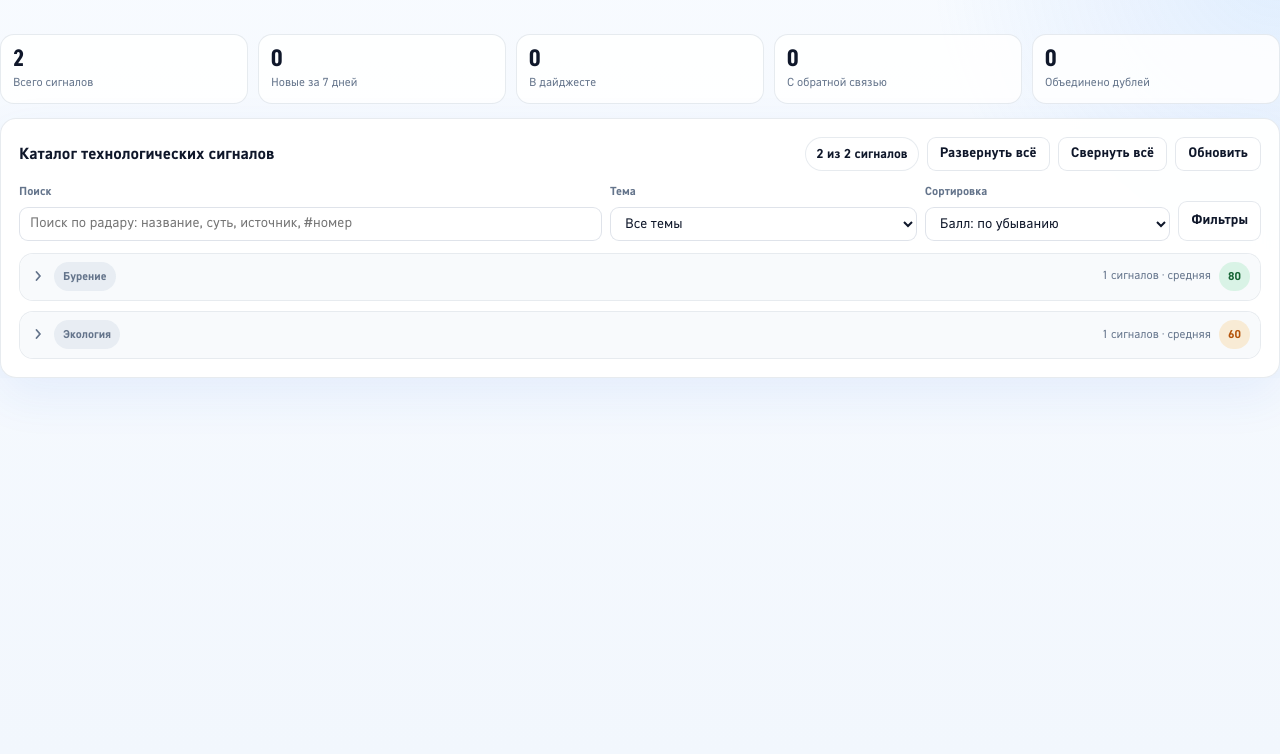
it: SignalRadarPage › экран для коллег заказчика › обычный пользователь оставляет ОС, в оценках есть «Не тот блок»
Click the button with aria-label "Раскрыть группу Бурение". click: (85, 276)
box: [20,254,1260,300]
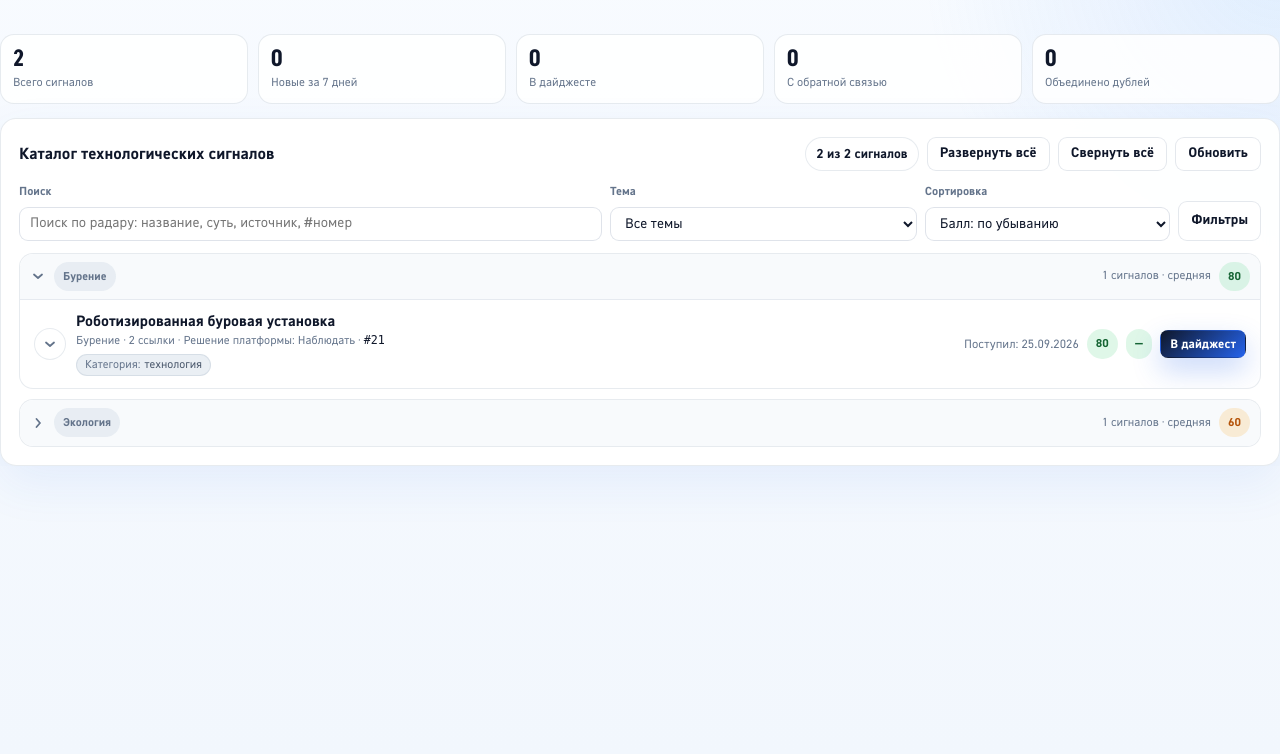
Click the button named "Раскрыть сигнал". click: (50, 344)
box: [34,328,66,360]
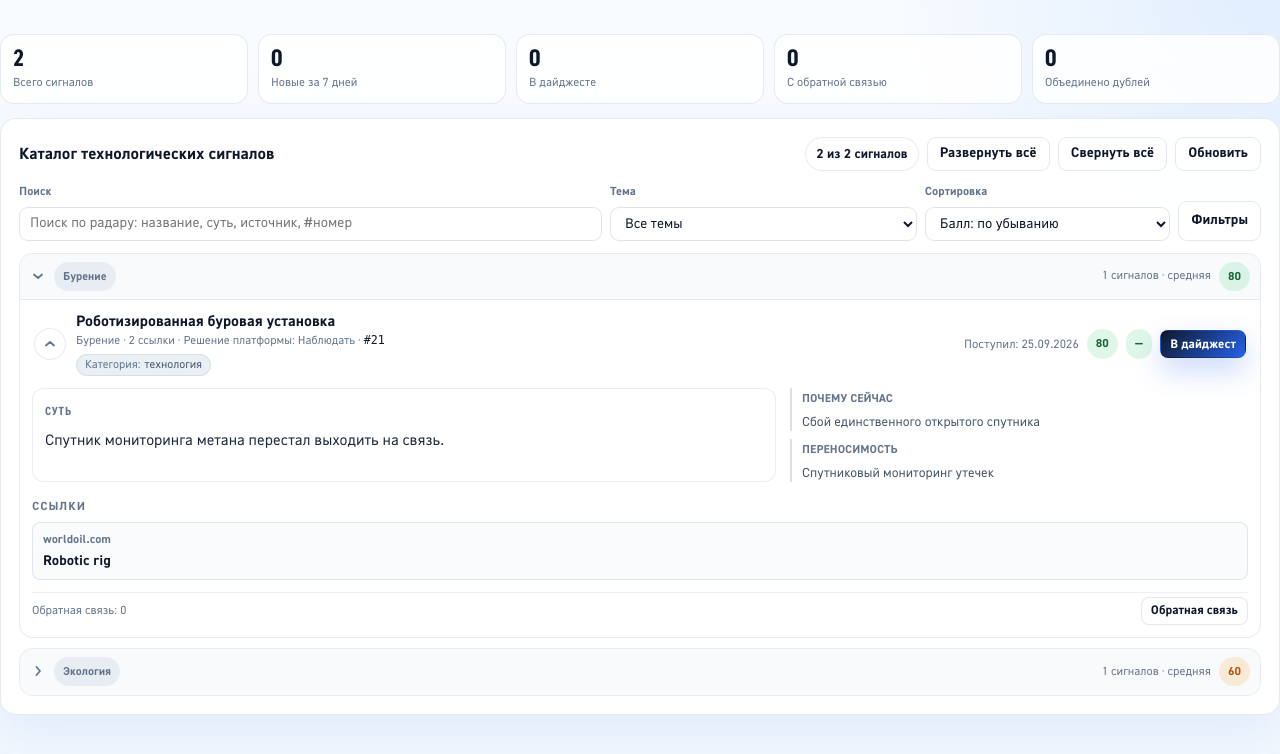
Click the button "Обратная связь". click: (1194, 611)
box: [1141,597,1248,625]
(page scrolled)
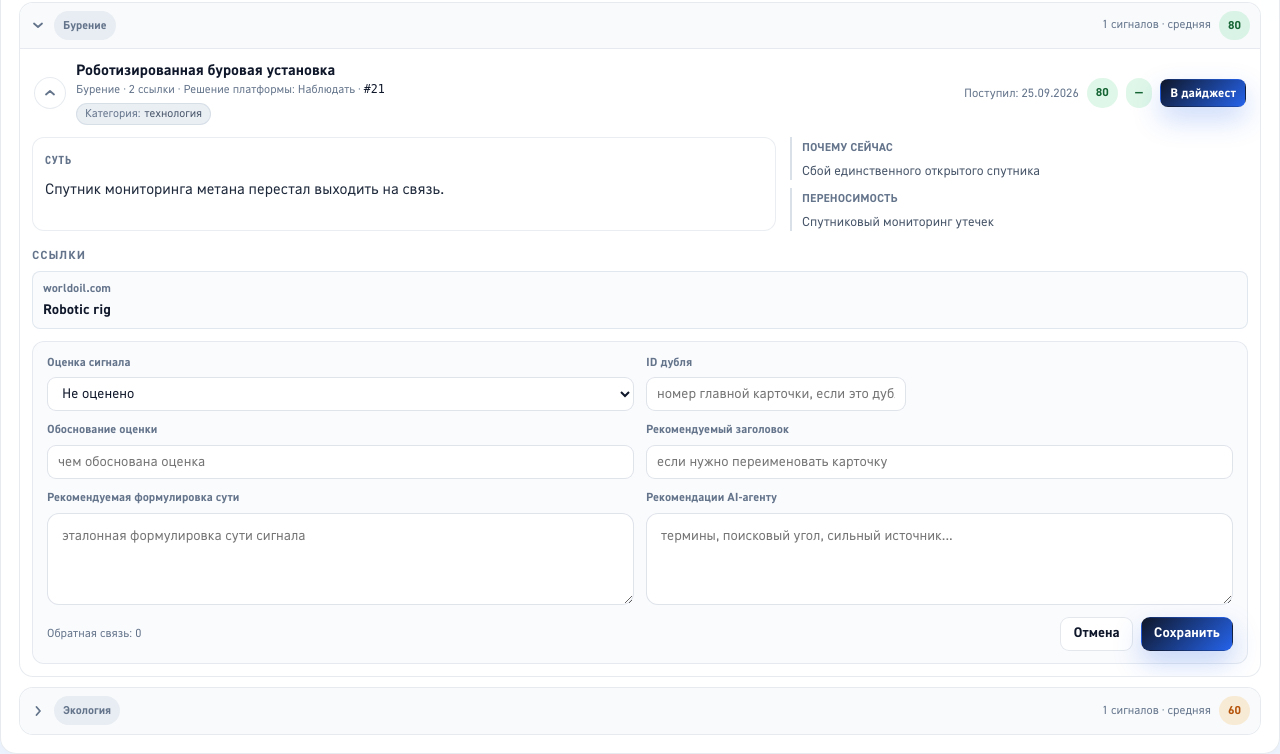
Expected: the button "Сохранить" is shown, [1141,617,1233,651]
